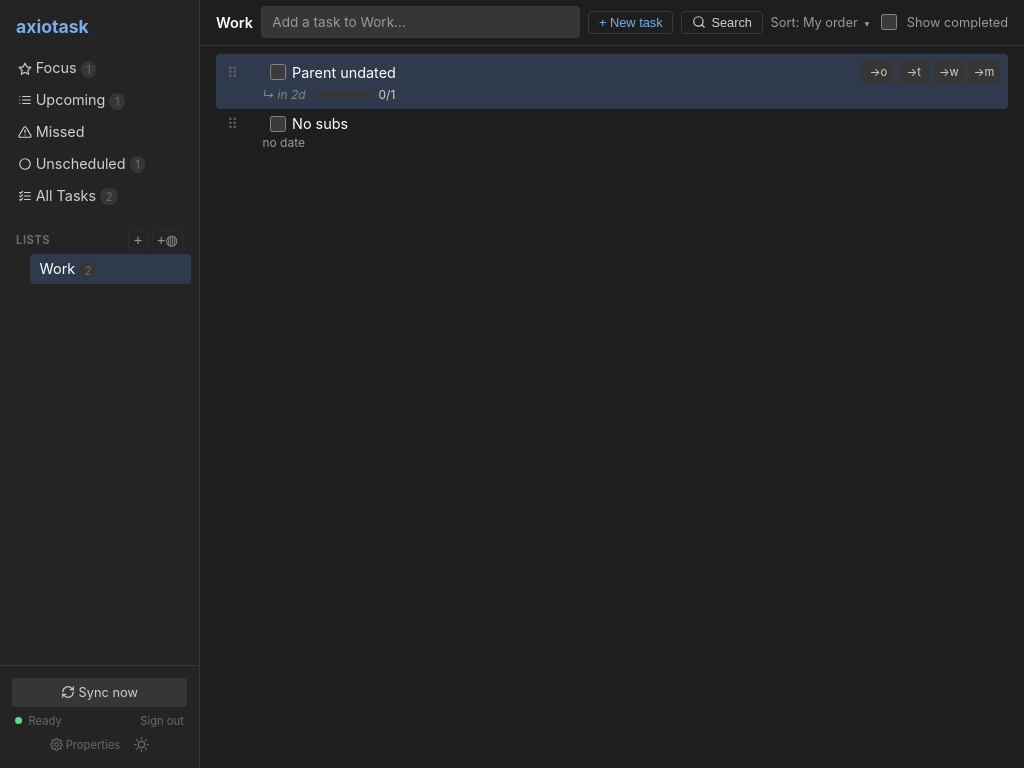
Scenario: Subtask date propagation → effective date › the detail panel shows the read-only 'From subtasks' date only when it exists
Parent WITH a dated subtask → the propagated field appears, read-only.
Step 1. Click the text "Parent undated" → (344, 72), box [292,64,396,81]
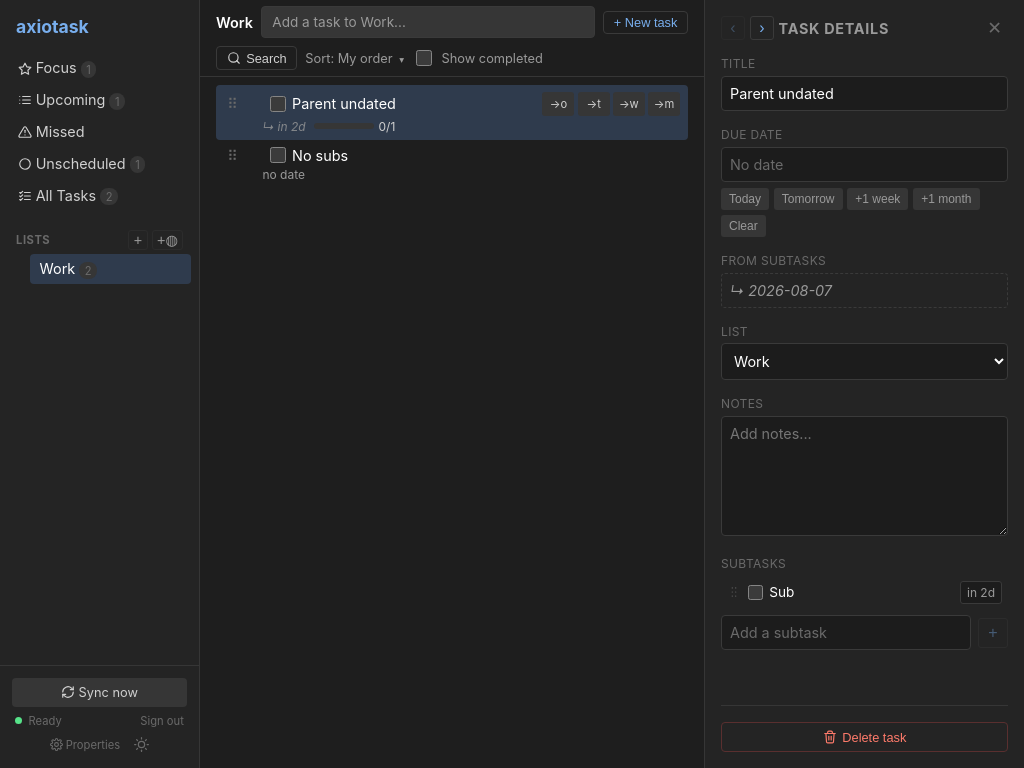
Expected: the text "From subtasks" is shown, [721,253,826,268]
Task WITHOUT dated subtasks → the field is absent.
Step 2. Click the text "No subs" → (320, 155), box [292,146,348,164]
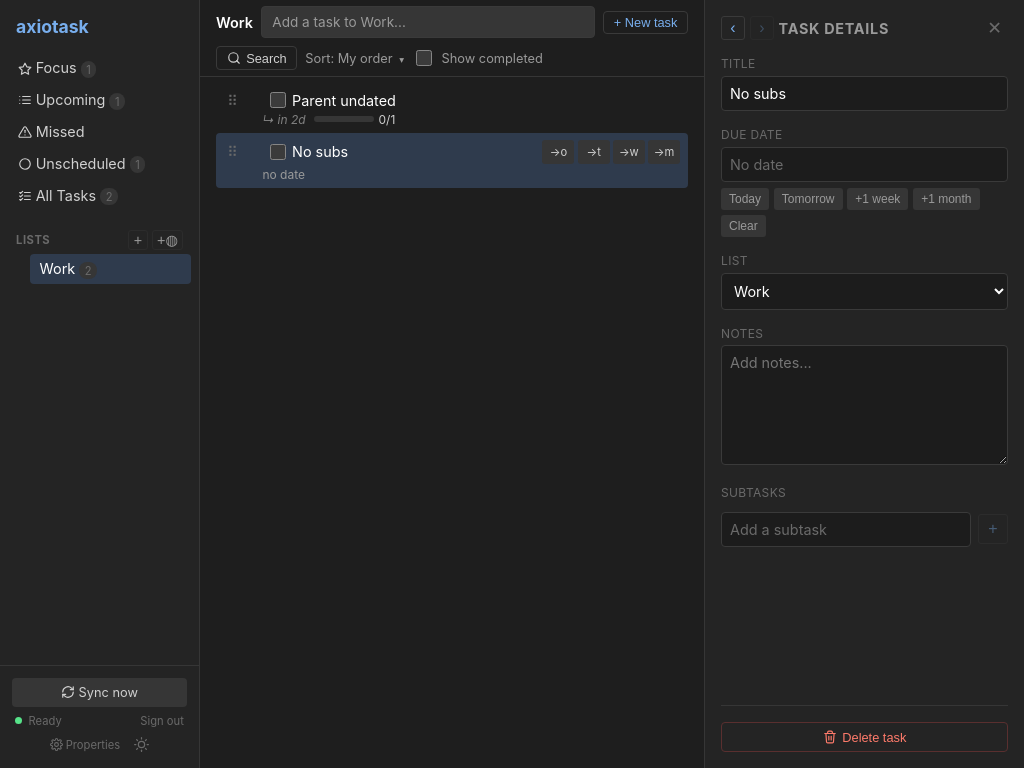
Expected: the field labelled "Title" holds "No subs", [721,76,1008,111]
Expected: the text "From subtasks" is gone
